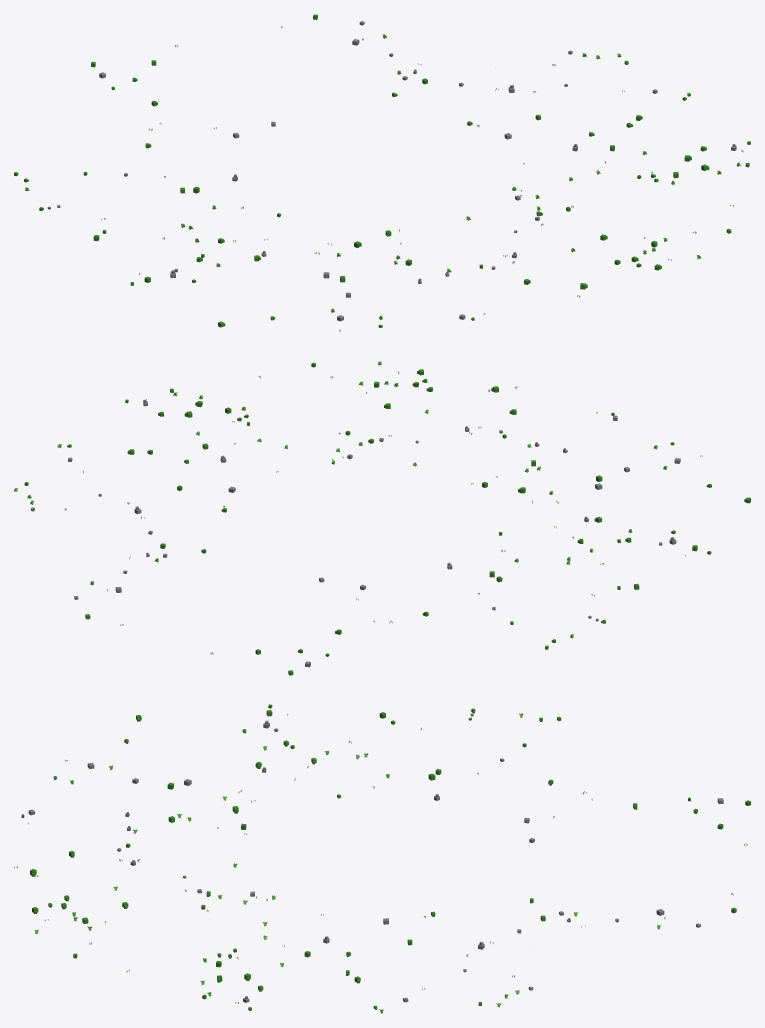
Rendered from env_nature_props.fbx.
3 renders of one model, top to bottom at view 1: azimuth 30°, elevation 25°; view 2: azimuth 150°, elevation 25°; view 3: azimuth 270°, elevation 25°, orthographic. The views are drawn at different scales.
Parts seen in each view (by area): view 1: env_nature_props, env_nature_props_1; view 2: env_nature_props, env_nature_props_1; view 3: env_nature_props, env_nature_props_1.
Part boxes in pixels (bbox=[...]): env_nature_props: bbox=[14, 14, 750, 327]; env_nature_props_1: bbox=[57, 25, 749, 332]; env_nature_props: bbox=[27, 362, 750, 675]; env_nature_props_1: bbox=[14, 361, 711, 656]; env_nature_props: bbox=[14, 704, 750, 1010]; env_nature_props_1: bbox=[30, 710, 733, 1013].
Size of the model in its own units: 425 by 4.35 by 432.
Materials: 2 (1 with a texture image).
